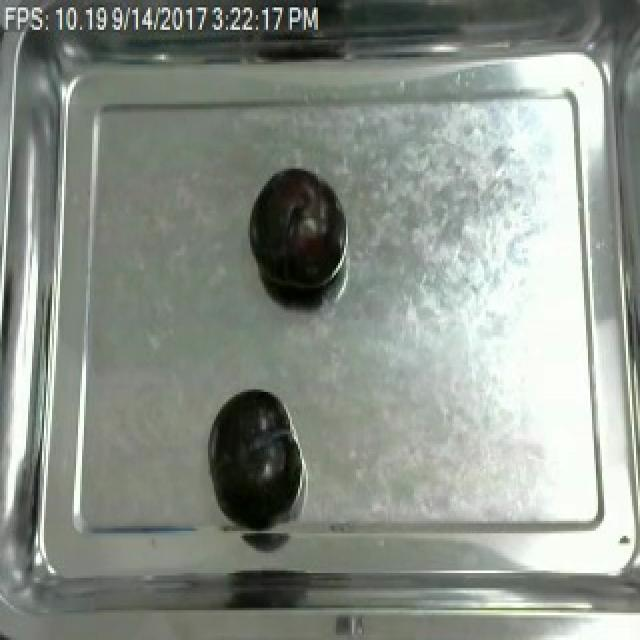Fruit: (206, 382, 298, 526), (244, 164, 340, 300)
